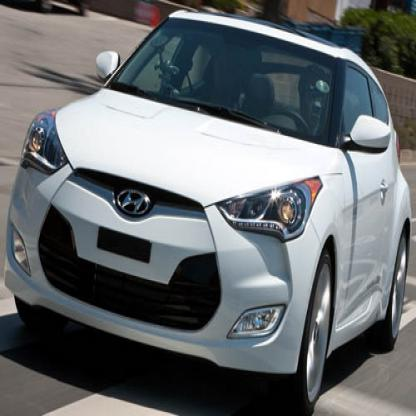Vehicle: (4, 12, 414, 412)
